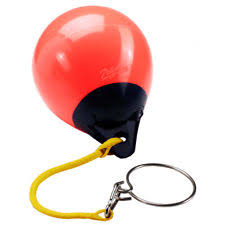buoy: (31, 7, 153, 125)
